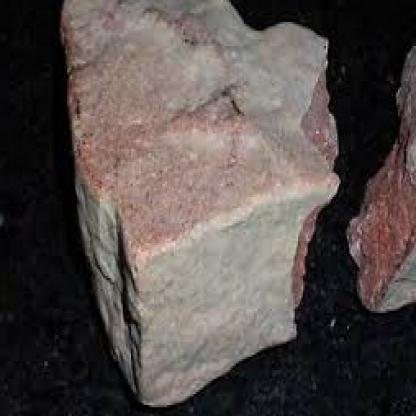Metamorphic_Quartize: (49, 0, 343, 399), (349, 9, 414, 317)
